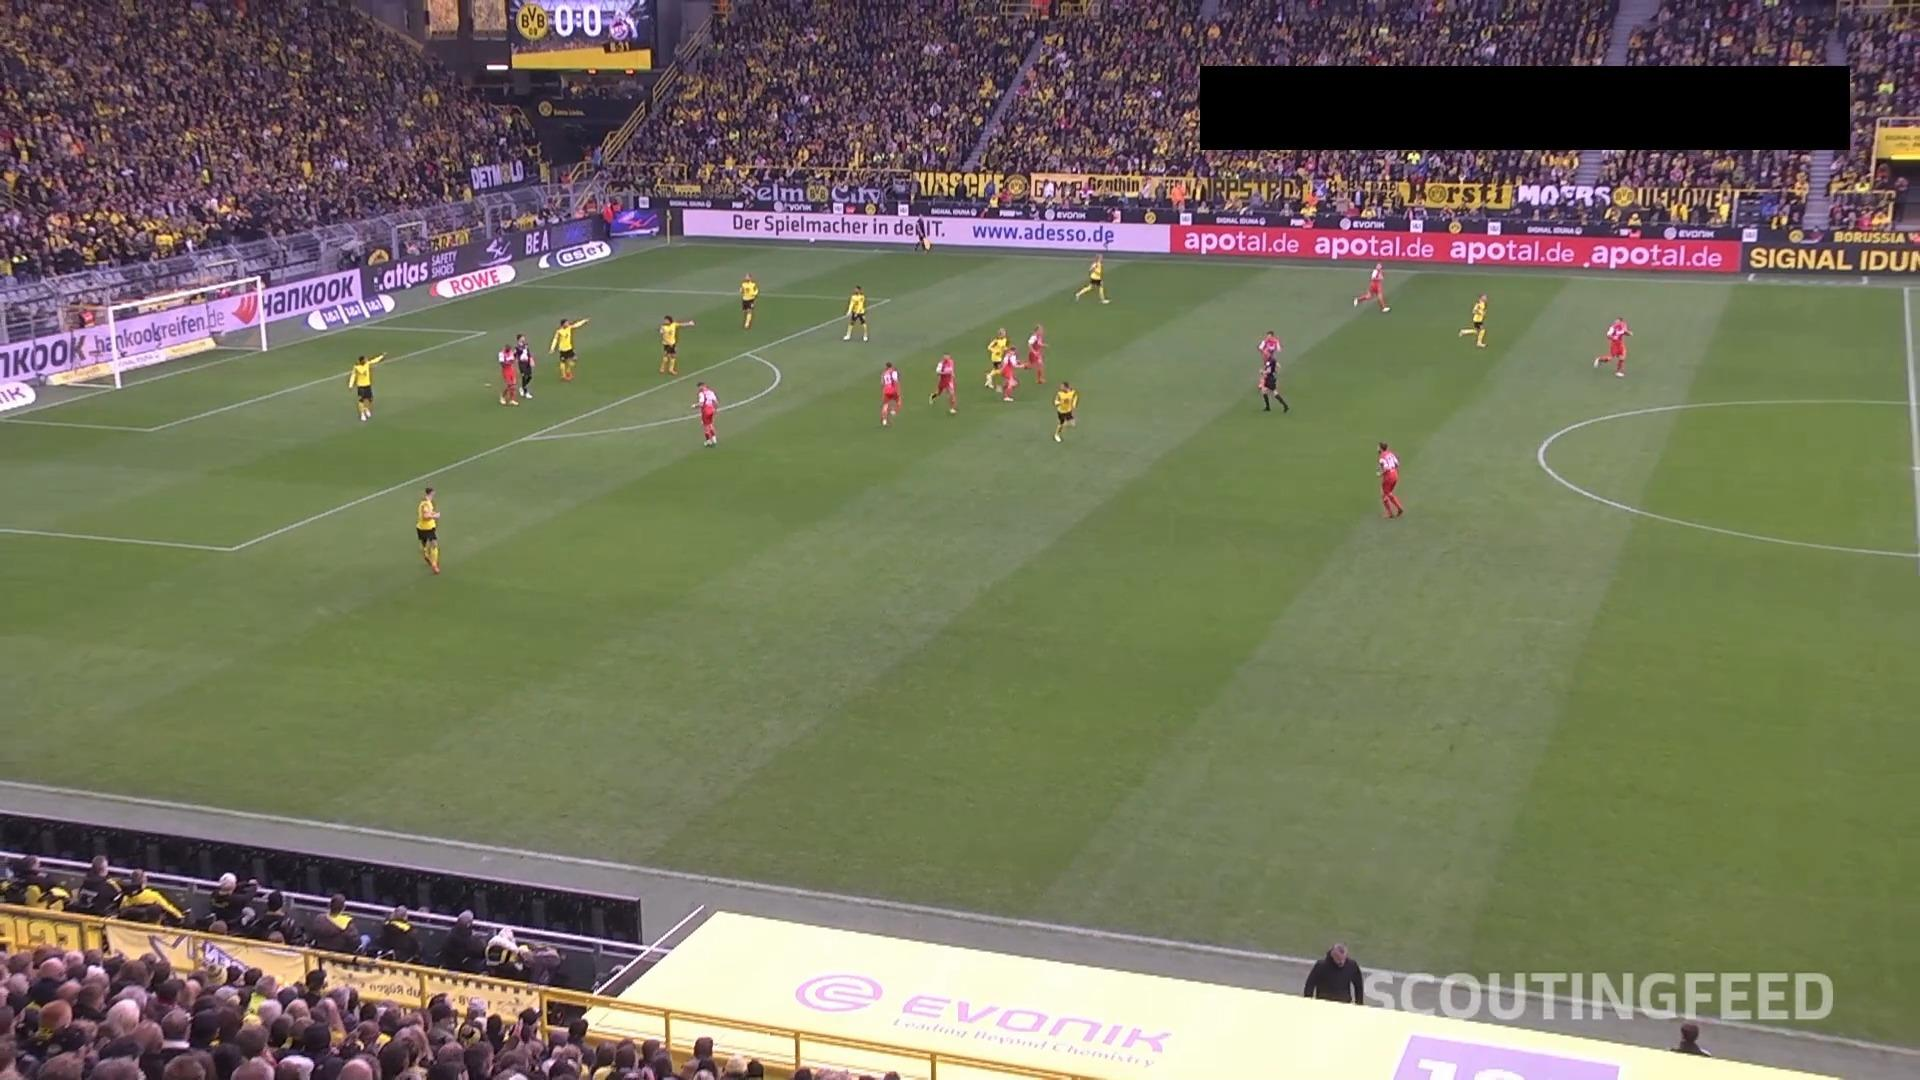coach: (1301, 941, 1365, 1004)
player: (346, 352, 385, 421), (548, 316, 589, 381), (1592, 315, 1633, 377), (414, 485, 441, 574), (657, 313, 695, 375), (1374, 440, 1402, 517), (1352, 261, 1390, 313), (928, 352, 958, 415), (1073, 255, 1111, 304), (691, 380, 719, 446), (1051, 380, 1078, 443), (984, 326, 1010, 391), (1458, 292, 1488, 347), (878, 360, 902, 426), (841, 285, 869, 341), (512, 333, 535, 398), (496, 343, 520, 405), (995, 345, 1020, 402), (1025, 323, 1048, 384), (738, 272, 758, 329), (1257, 329, 1282, 373)
referee: (1257, 354, 1288, 412), (912, 215, 935, 254)
